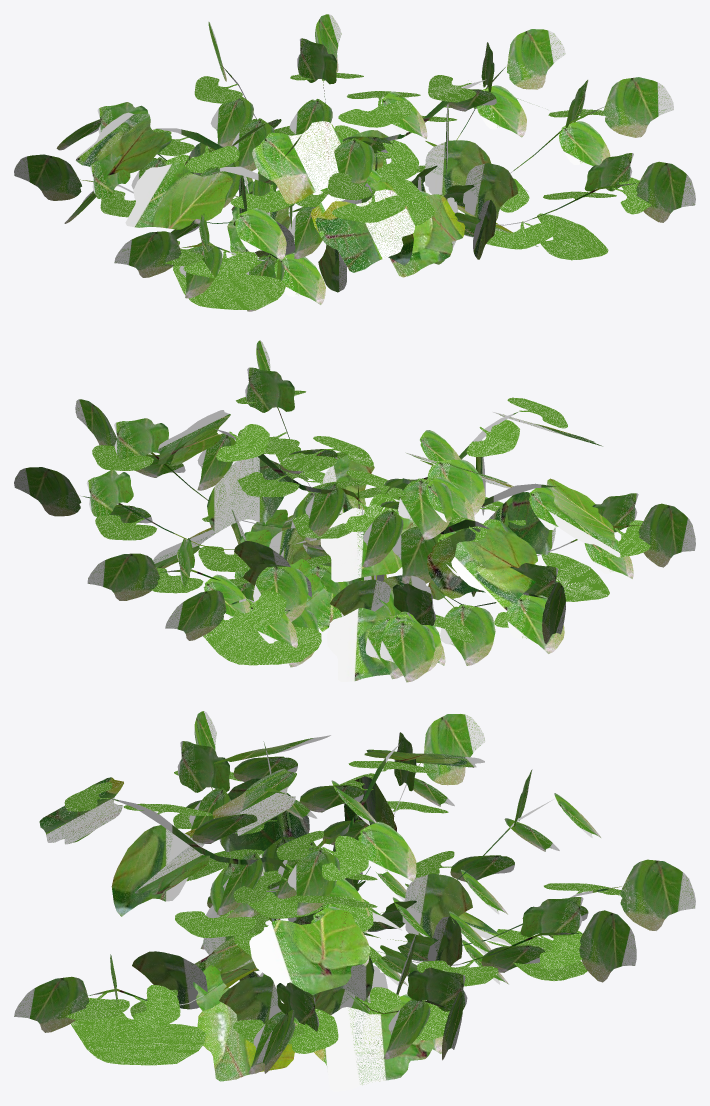
The model's file is plant.fbx.
3 views of the same model, one above another, from view 1: azimuth 30°, elevation 25°; view 2: azimuth 150°, elevation 25°; view 3: azimuth 270°, elevation 25° (orthographic). The views are drawn at different scales.
Visible parts, largest first — view 1: polySurface1; view 2: polySurface1; view 3: polySurface1.
Boxes of the visible parts, left/top/right/bottom form: polySurface1: left=14, top=14, right=695, bottom=311; polySurface1: left=14, top=340, right=695, bottom=682; polySurface1: left=14, top=711, right=695, bottom=1091.
Bounding box in the file's own units: 20.18 × 5.21 × 17.57.
Materials: 2 (1 with a texture image).
